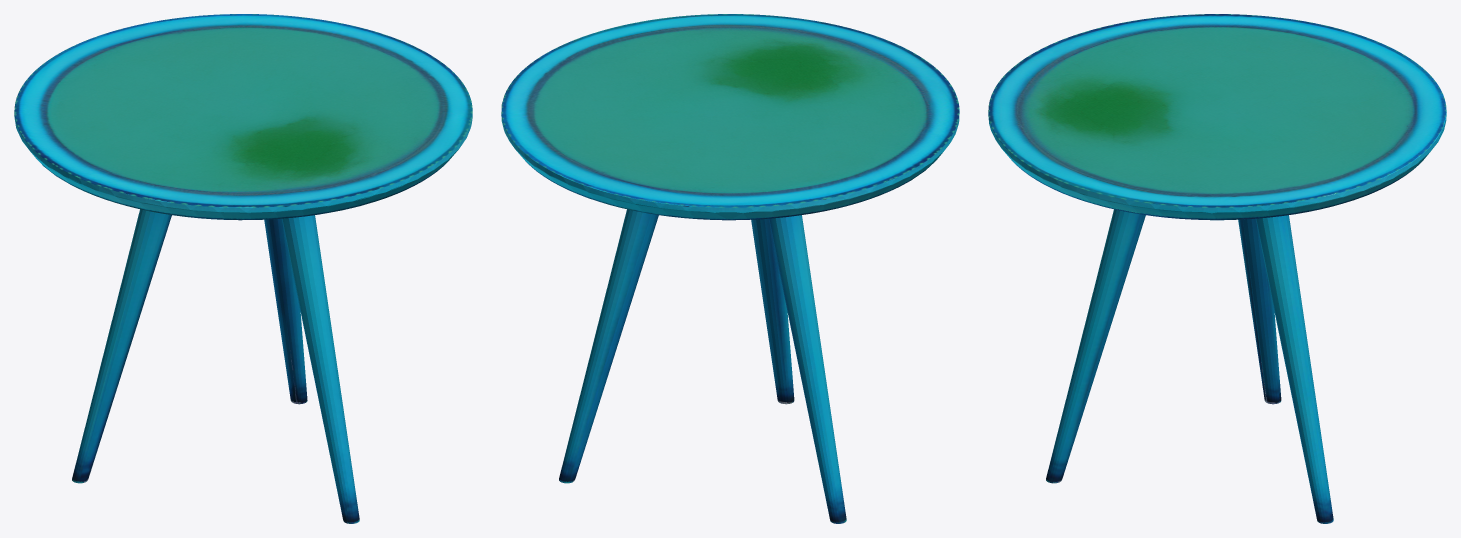
Rendered from edited_mesh.glb.
3 renders of one model, left to right at view 1: azimuth 30°, elevation 25°; view 2: azimuth 150°, elevation 25°; view 3: azimuth 270°, elevation 25°, orthographic.
Parts seen in each view (by area): view 1: normalized_model.obj; view 2: normalized_model.obj; view 3: normalized_model.obj.
Part boxes in pixels (box(x1,y1,x2,y2)): normalized_model.obj: box(14, 14, 472, 523); normalized_model.obj: box(501, 14, 959, 523); normalized_model.obj: box(988, 14, 1446, 523).
Size of the model in its own units: 1.47 by 1.26 by 1.47.
Materials: 1 (1 with a texture image).
